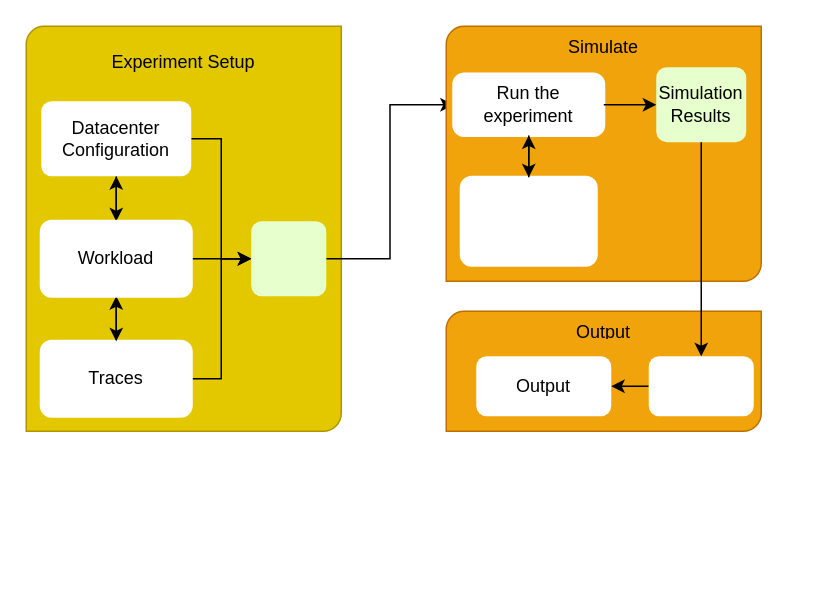
Some shapes in this 833 by 593 pixel diagram are drawn without their labels. The centre of each missing label's shape, as x and y in pixels:
"Process Results" goes at (700,386).
"Setup ready" goes at (288,258).
"Use a simulation model" goes at (528,220).
